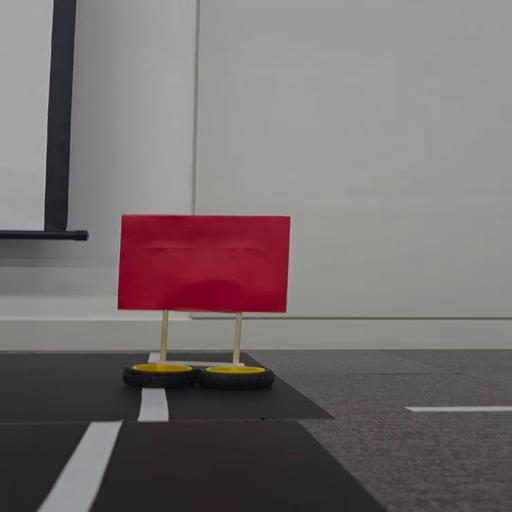Sign_A: (103, 208, 295, 396)
